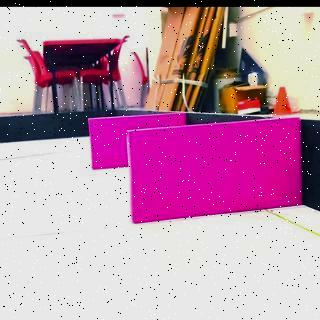xparking: (128, 130, 302, 222), (90, 116, 124, 166)
